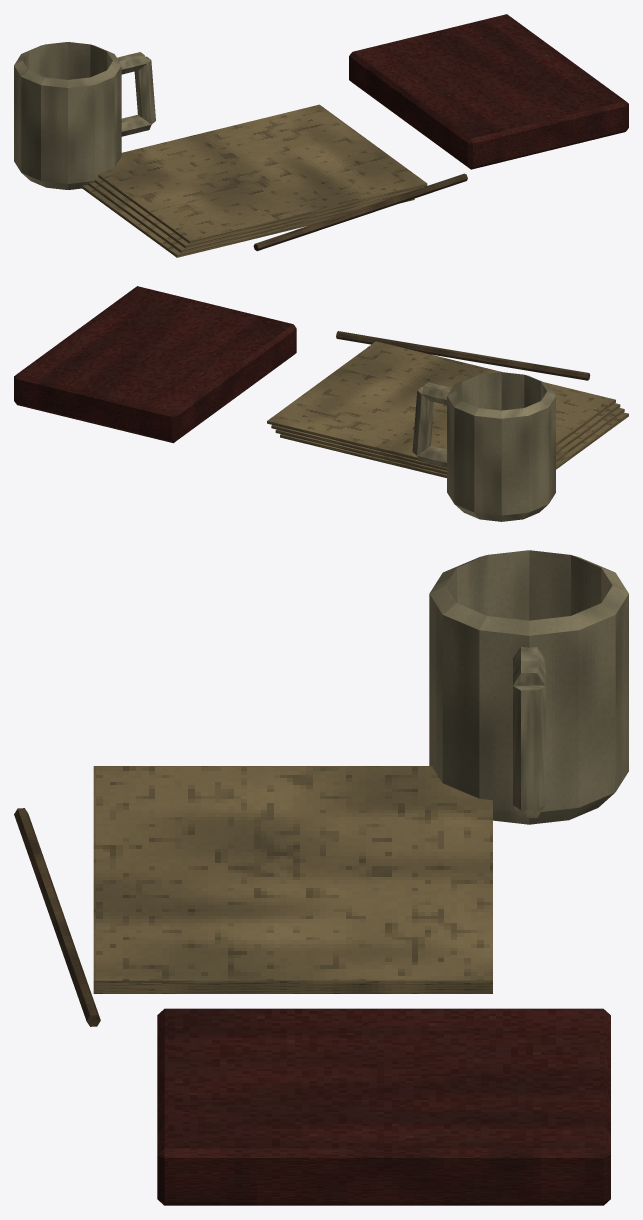
The model's file is level_lived_desk_clutter_worn.glb.
3 views of the same model, one above another, from view 1: azimuth 30°, elevation 25°; view 2: azimuth 150°, elevation 25°; view 3: azimuth 270°, elevation 25° (orthographic). The views are drawn at different scales.
Visible parts, largest first — view 1: level_lived_desk_clutter_worn; view 2: level_lived_desk_clutter_worn; view 3: level_lived_desk_clutter_worn.
Boxes of the visible parts, x1,y1,x2,y2 form: level_lived_desk_clutter_worn: (14,14,628,257); level_lived_desk_clutter_worn: (14,286,628,521); level_lived_desk_clutter_worn: (14,550,628,1205).
Size of the model in its own units: 0.6 by 0.125 by 0.339.
4 materials, 4 textured.
